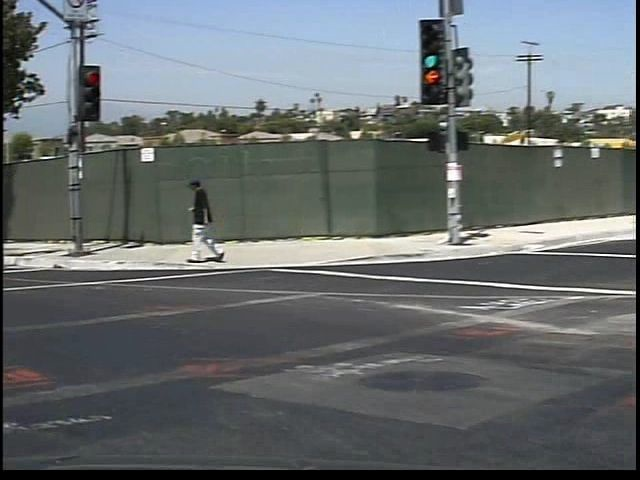person: (170, 175, 219, 281)
